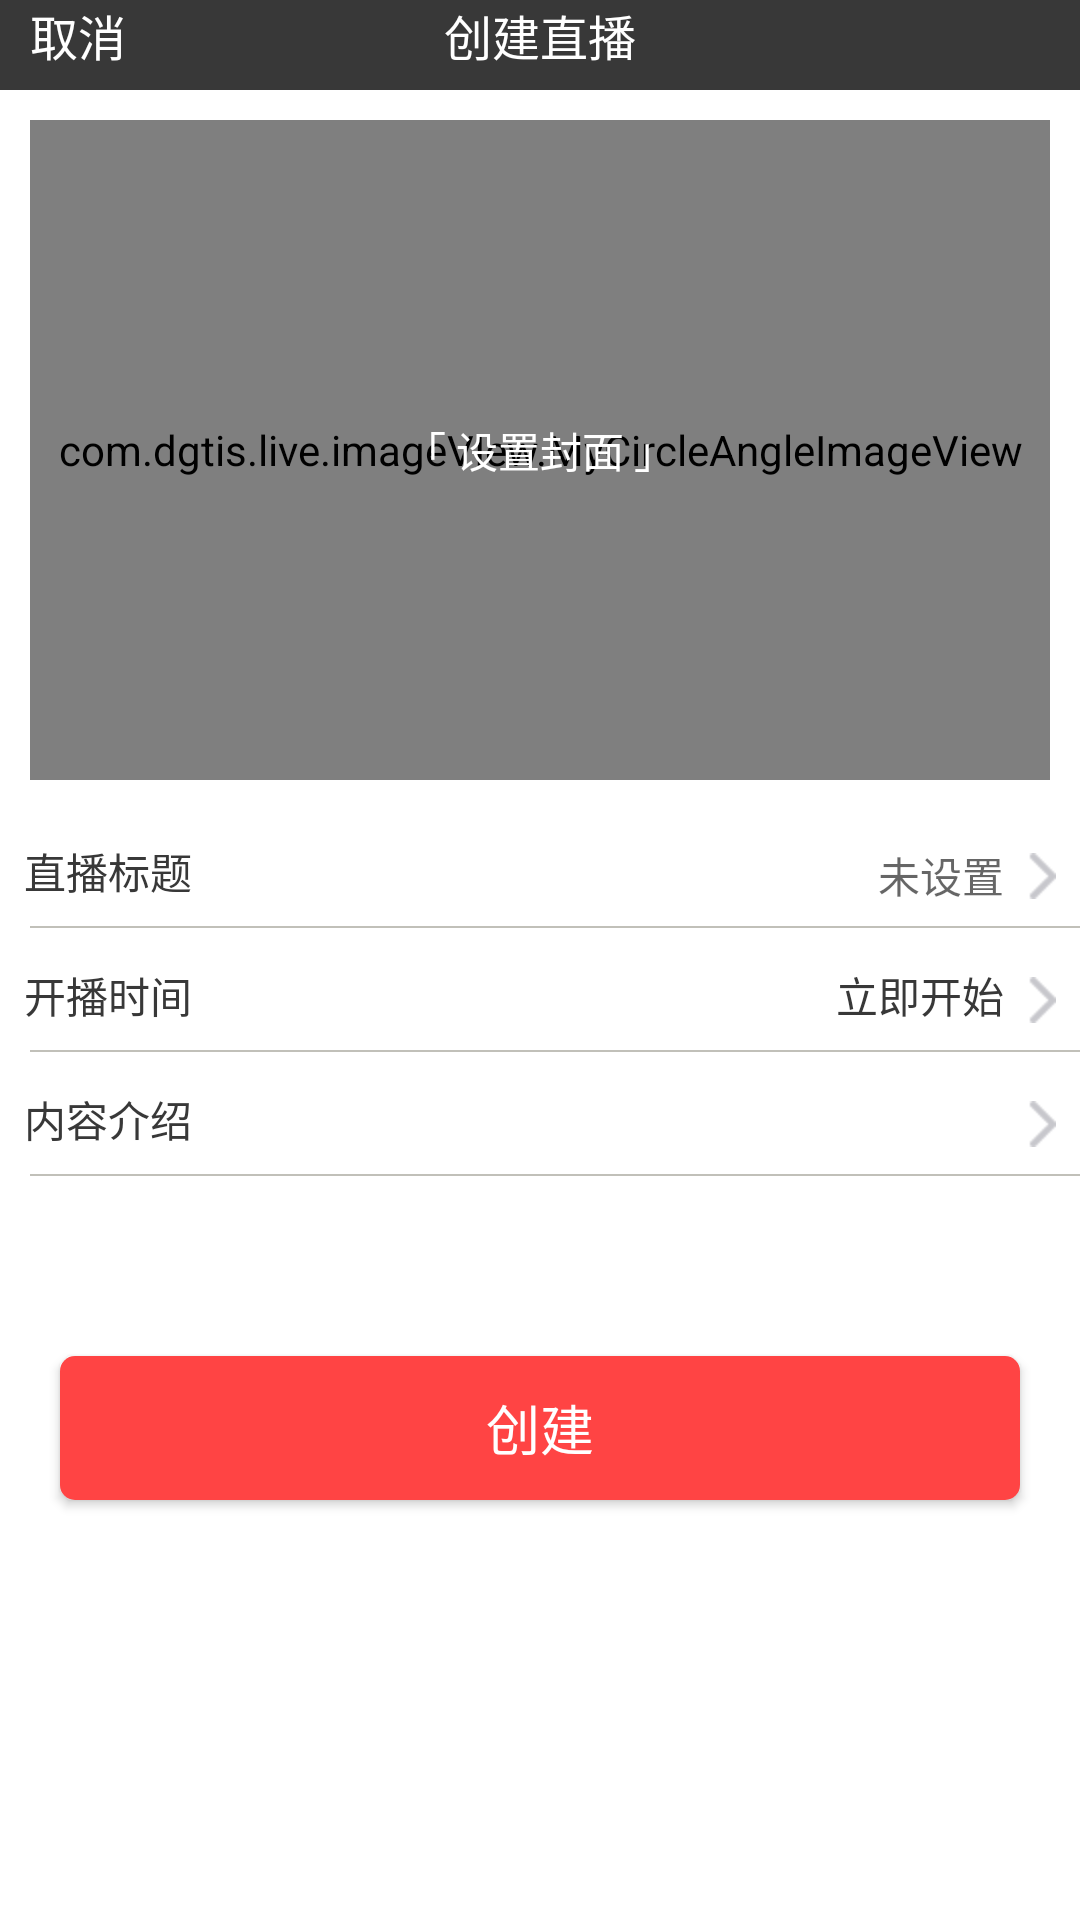

Named icons in this screenshot (1080 × 1920) and their bounding boxes, (x1, y1, x2, y2):
personal right: (1030, 853, 1056, 899), (1030, 977, 1056, 1023), (1030, 1101, 1056, 1147)
